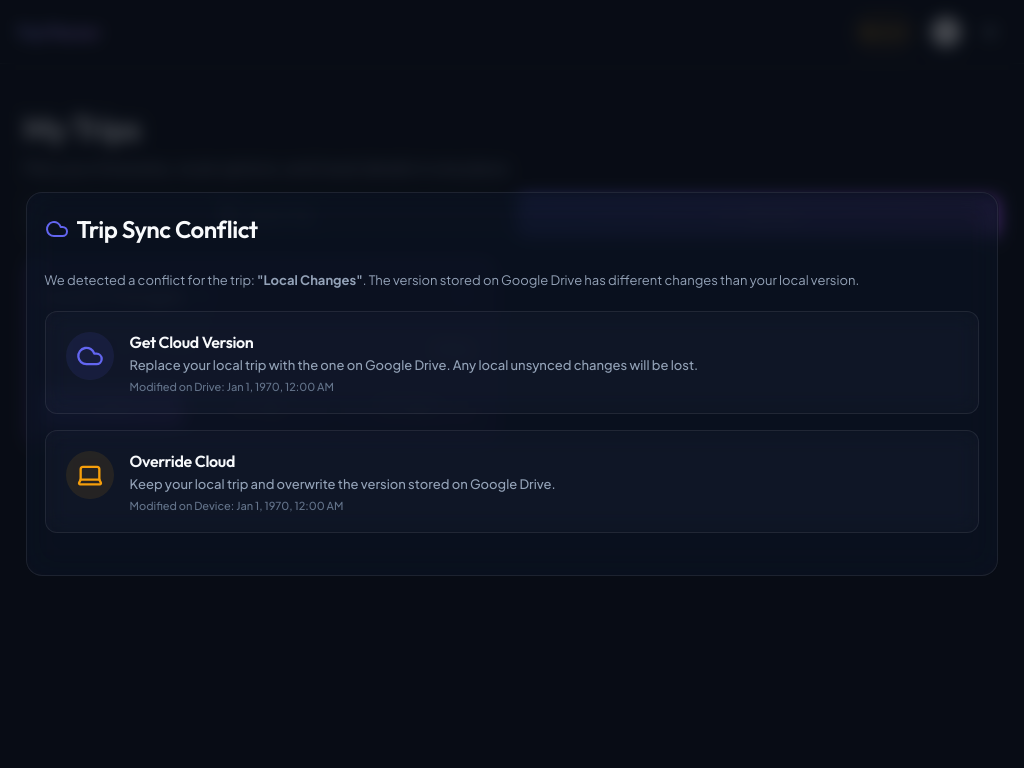
Test: App Sync and Integration Tests › handles conflict resolution choice: Get Cloud Version
// Wait for conflict modal
Step 1. Click the button "Get Cloud Version" → (512, 362), box left=45, top=311, right=979, bottom=414
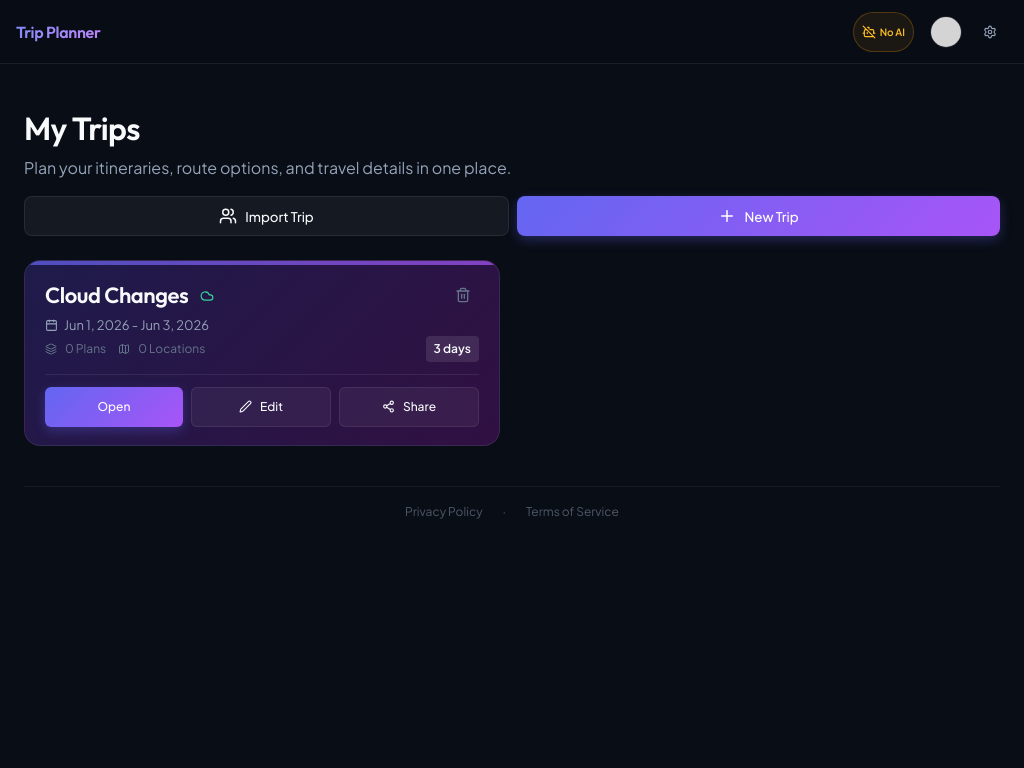
Expected: the text "Cloud Changes" is shown, left=45, top=279, right=188, bottom=312
